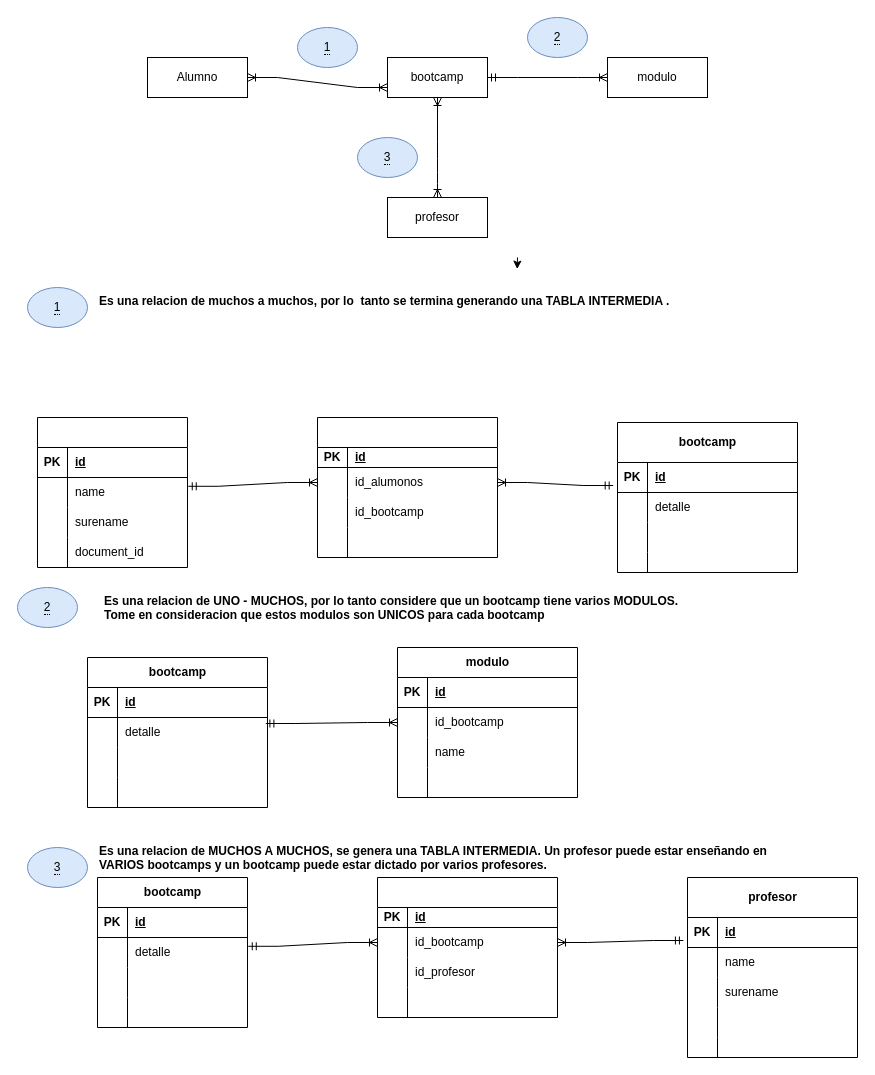
The diagram is 875 pixels wide and 1075 high, and some of its shapes have lost their labels. Each missing label, with the box of its shape:
alumno_bootcamp: (316, 416, 498, 558)
alumnos: (36, 416, 188, 568)
profesor_bootcamp: (376, 876, 558, 1018)
